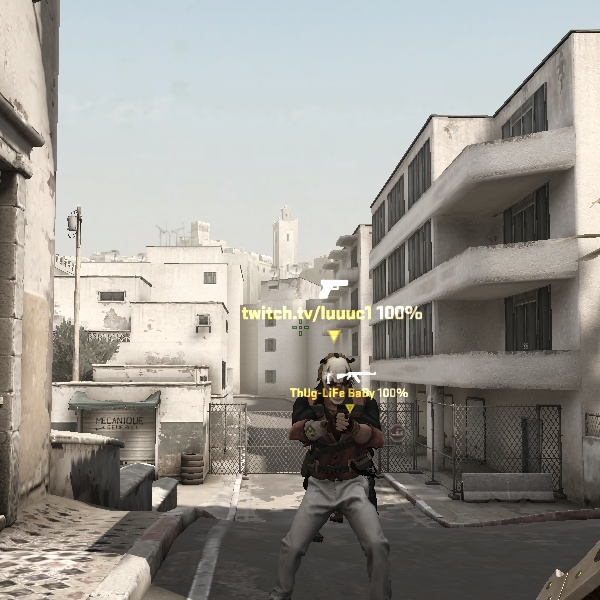t_body: (270, 348, 406, 600)
t_head: (310, 350, 361, 408)
